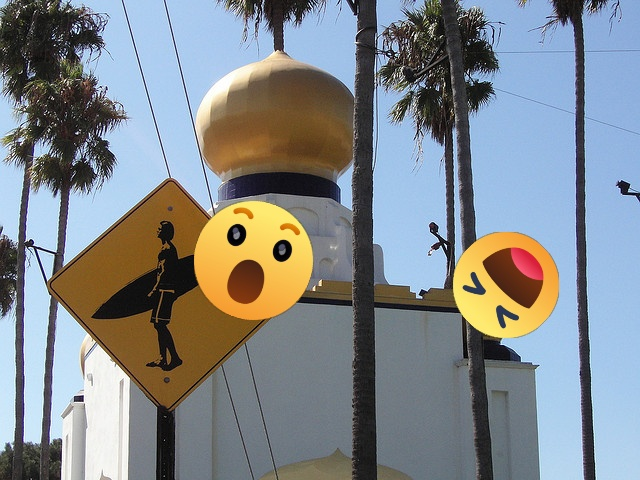haha: (453, 232, 559, 338)
wow: (194, 201, 313, 320)
